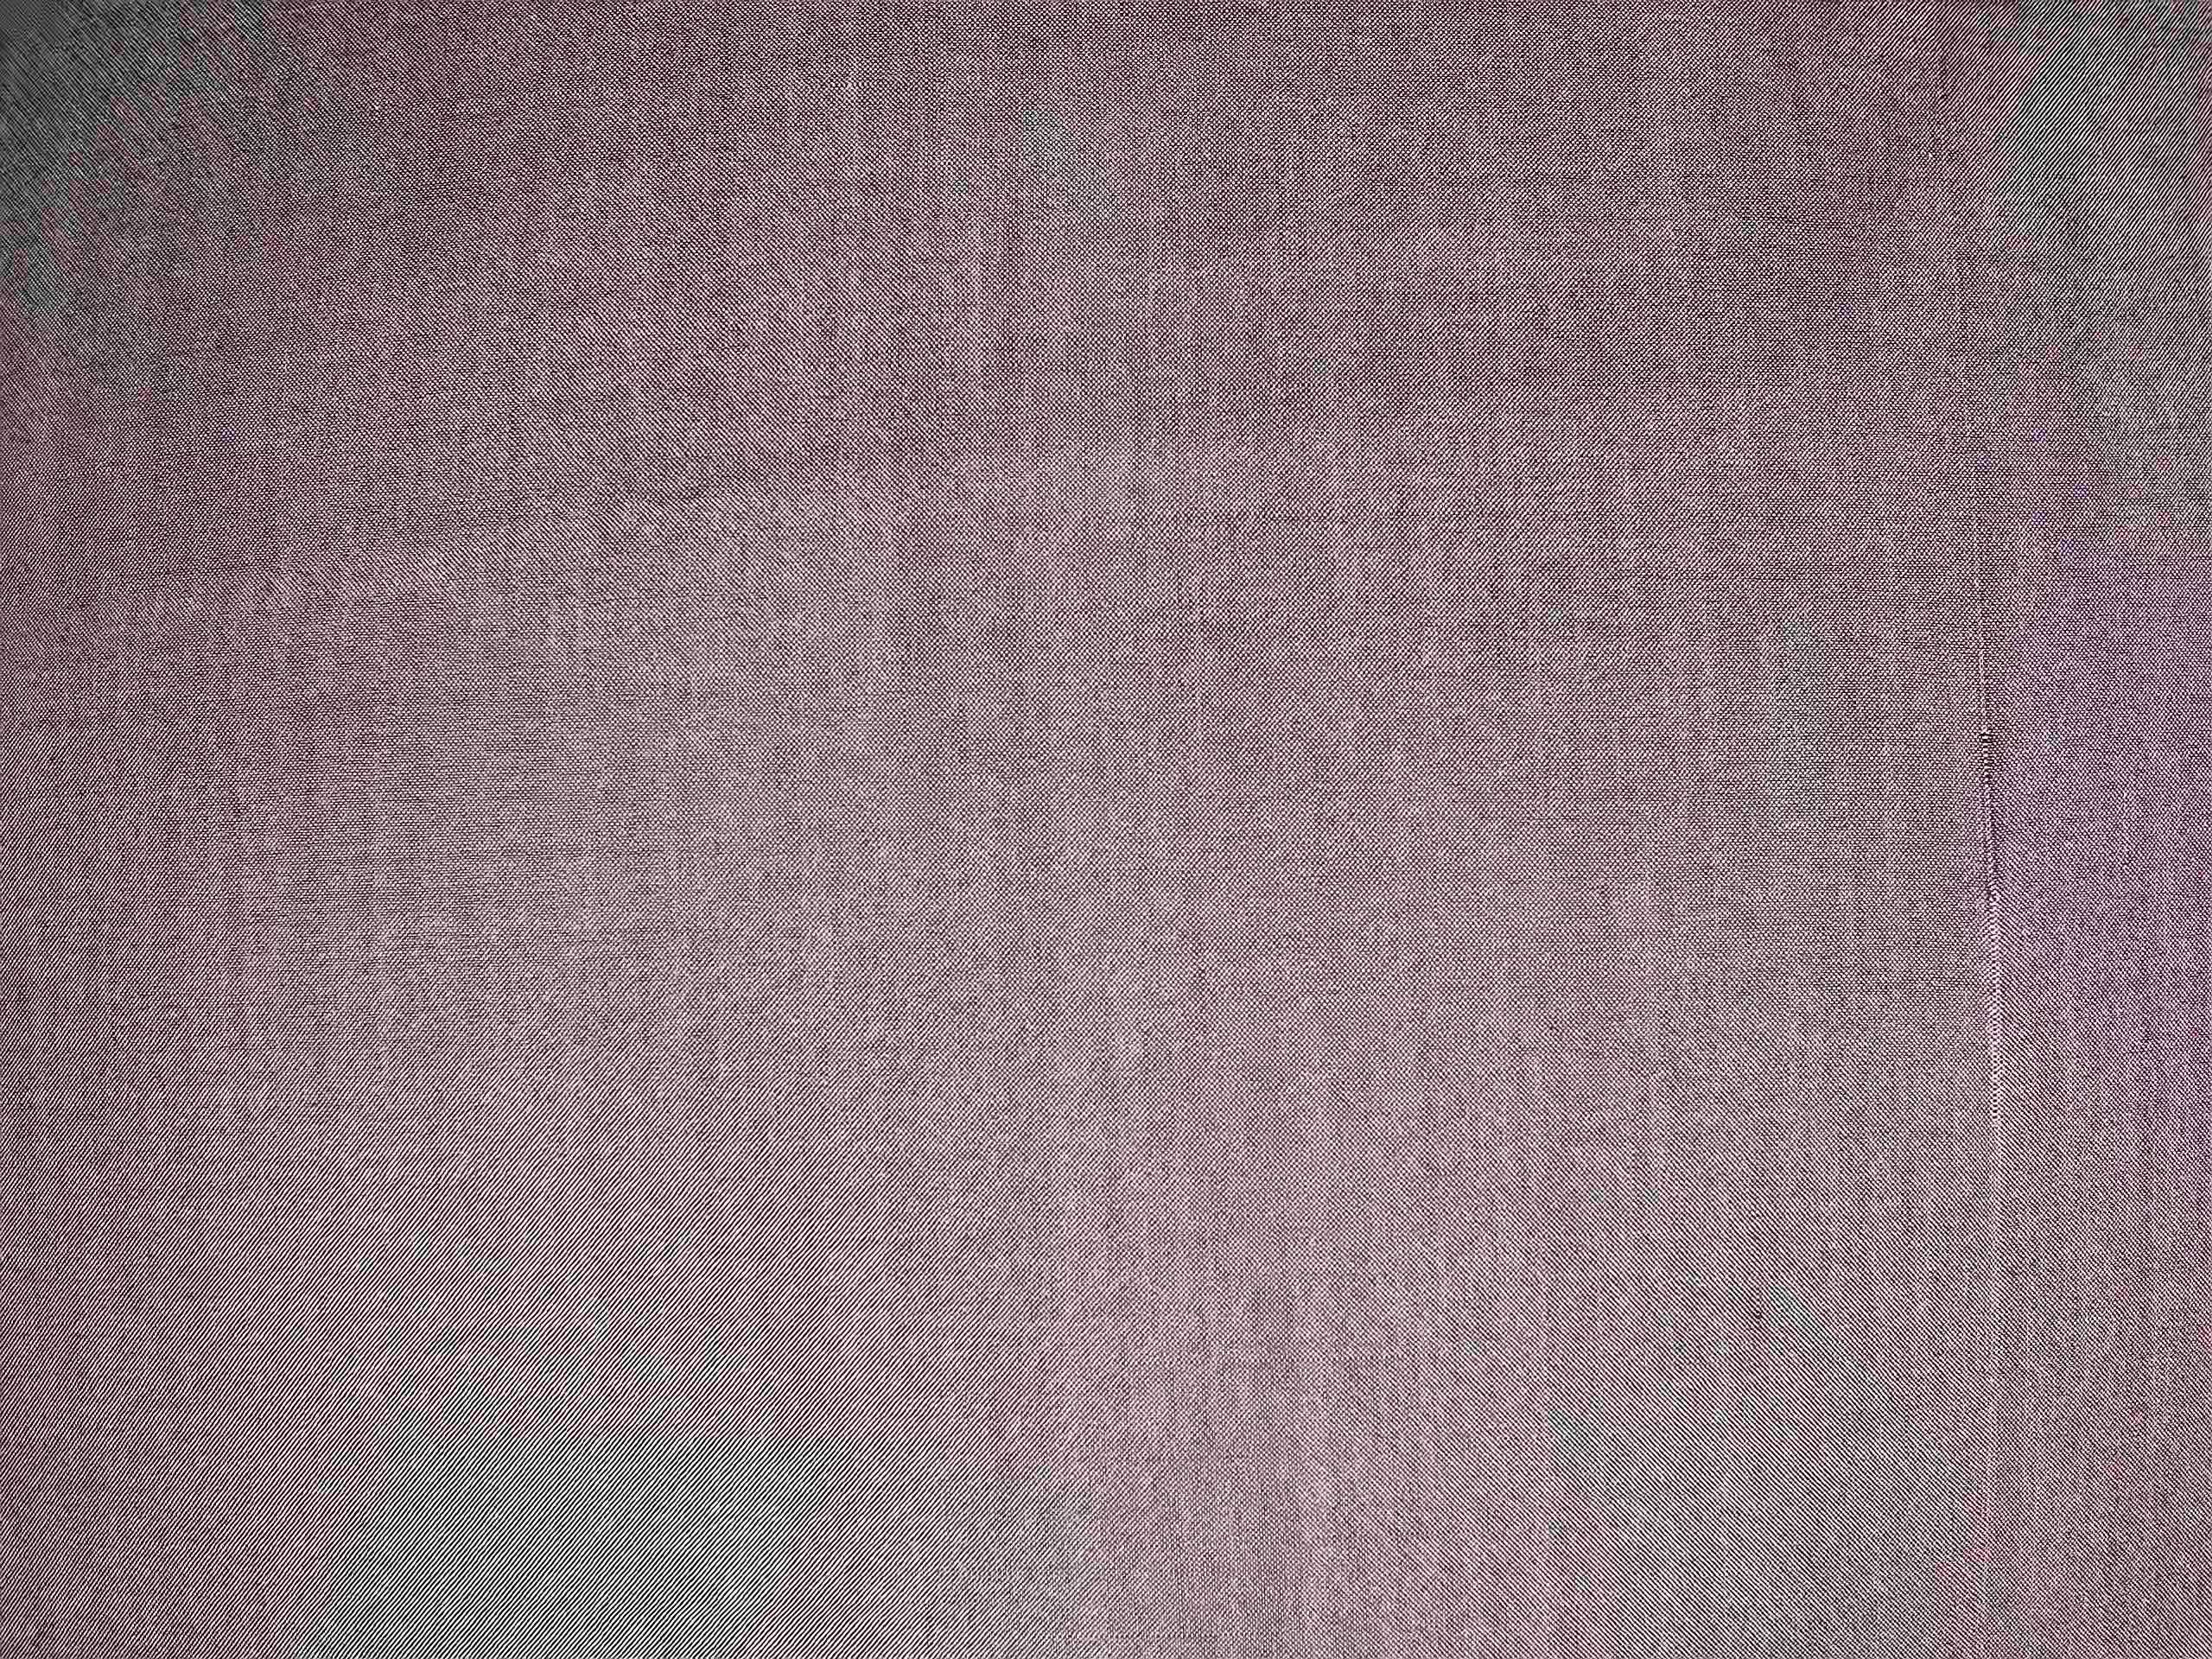hanging-warp: (1951, 488, 2008, 1241)
